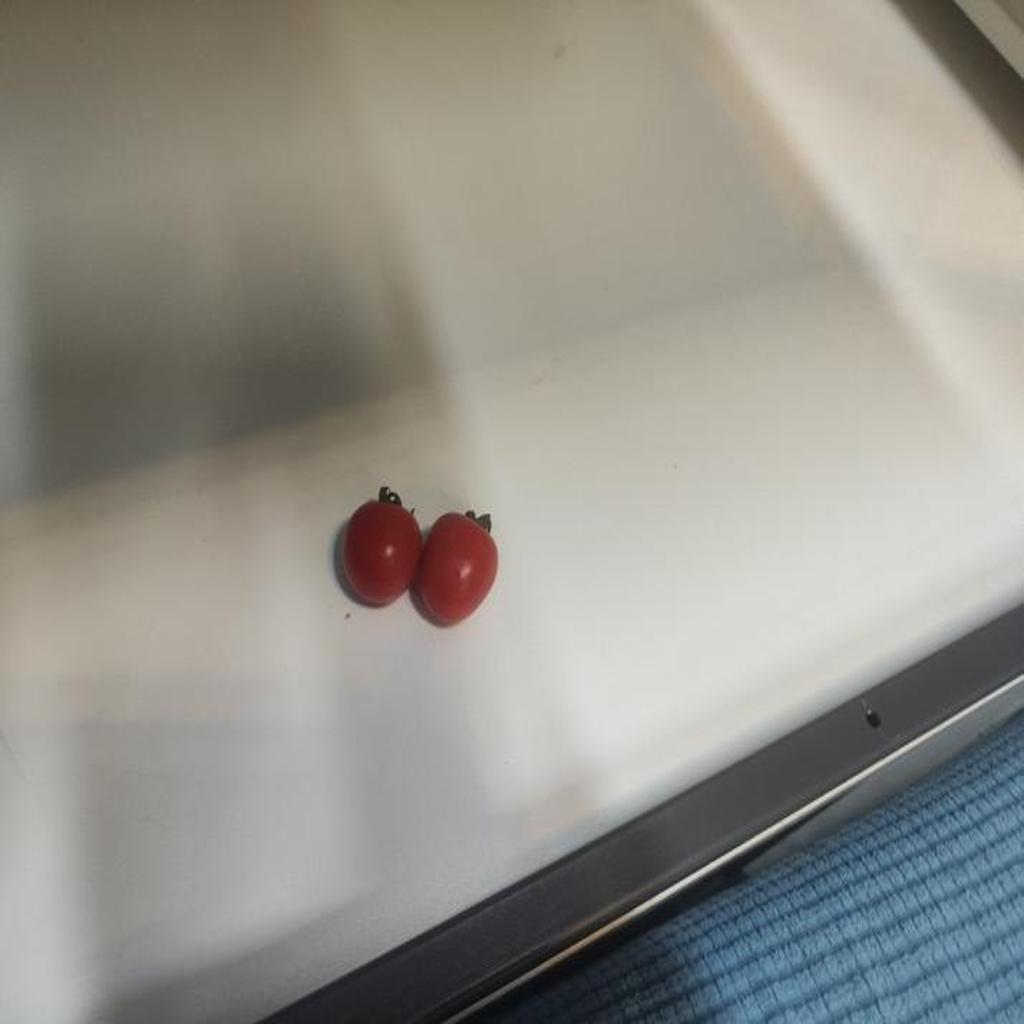tomato: (414, 509, 514, 634), (335, 497, 416, 606)
